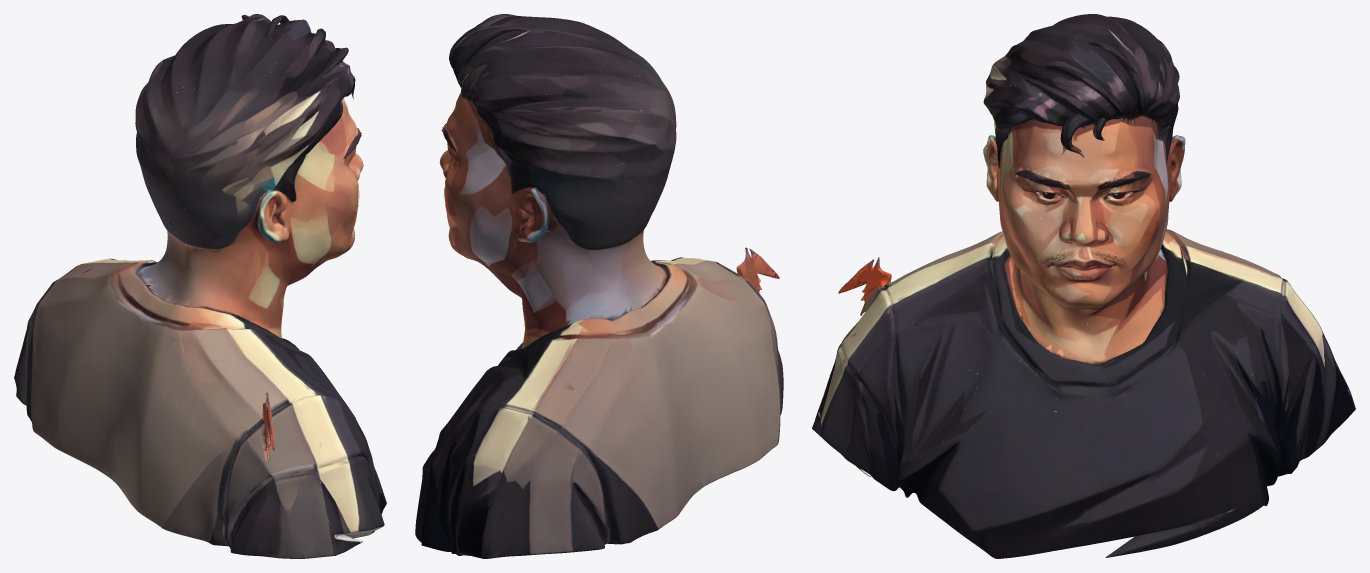
Rendered from peter.glb.
3 views of the same model, side by side, from view 1: azimuth 30°, elevation 25°; view 2: azimuth 150°, elevation 25°; view 3: azimuth 270°, elevation 25° (orthographic). The views are drawn at different scales.
Visible parts, largest first — view 1: tripo_node_1dbc06c6-83f3-4265-a8b7-33329cf10a61; view 2: tripo_node_1dbc06c6-83f3-4265-a8b7-33329cf10a61; view 3: tripo_node_1dbc06c6-83f3-4265-a8b7-33329cf10a61.
Boxes of the visible parts, x1,y1,x2,y2 form: tripo_node_1dbc06c6-83f3-4265-a8b7-33329cf10a61: (14, 14, 386, 558); tripo_node_1dbc06c6-83f3-4265-a8b7-33329cf10a61: (415, 14, 783, 558); tripo_node_1dbc06c6-83f3-4265-a8b7-33329cf10a61: (812, 14, 1355, 558).
Size of the model in its own units: 0.5748 by 0.9804 by 0.9787.
Materials: 1 (1 with a texture image).
